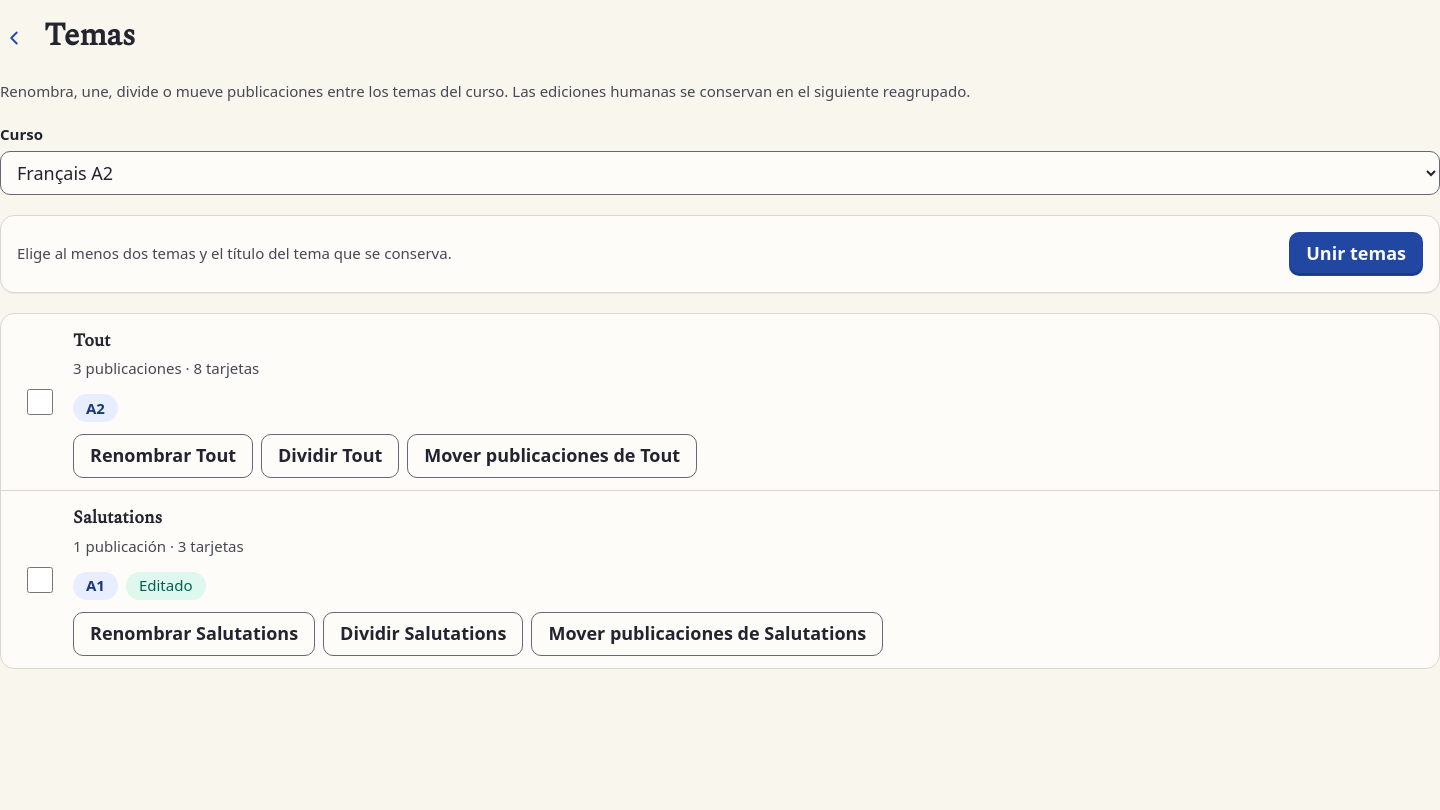
Test case: los errores del servidor se muestran tal cual
Click the button "Renombrar Tout": (163, 456) [73,434,253,478]
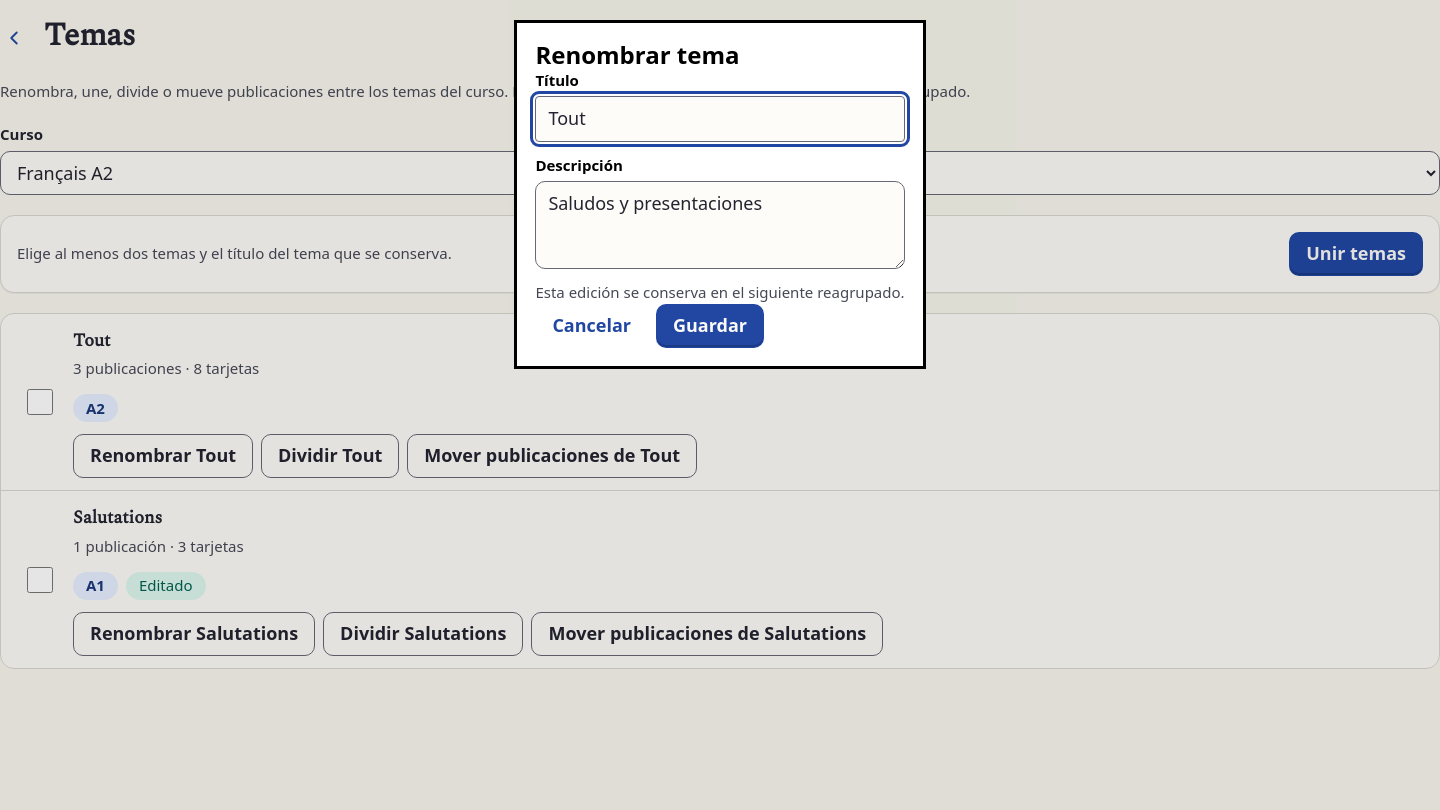
Click the button "Guardar": (710, 326) [656,304,764,348]
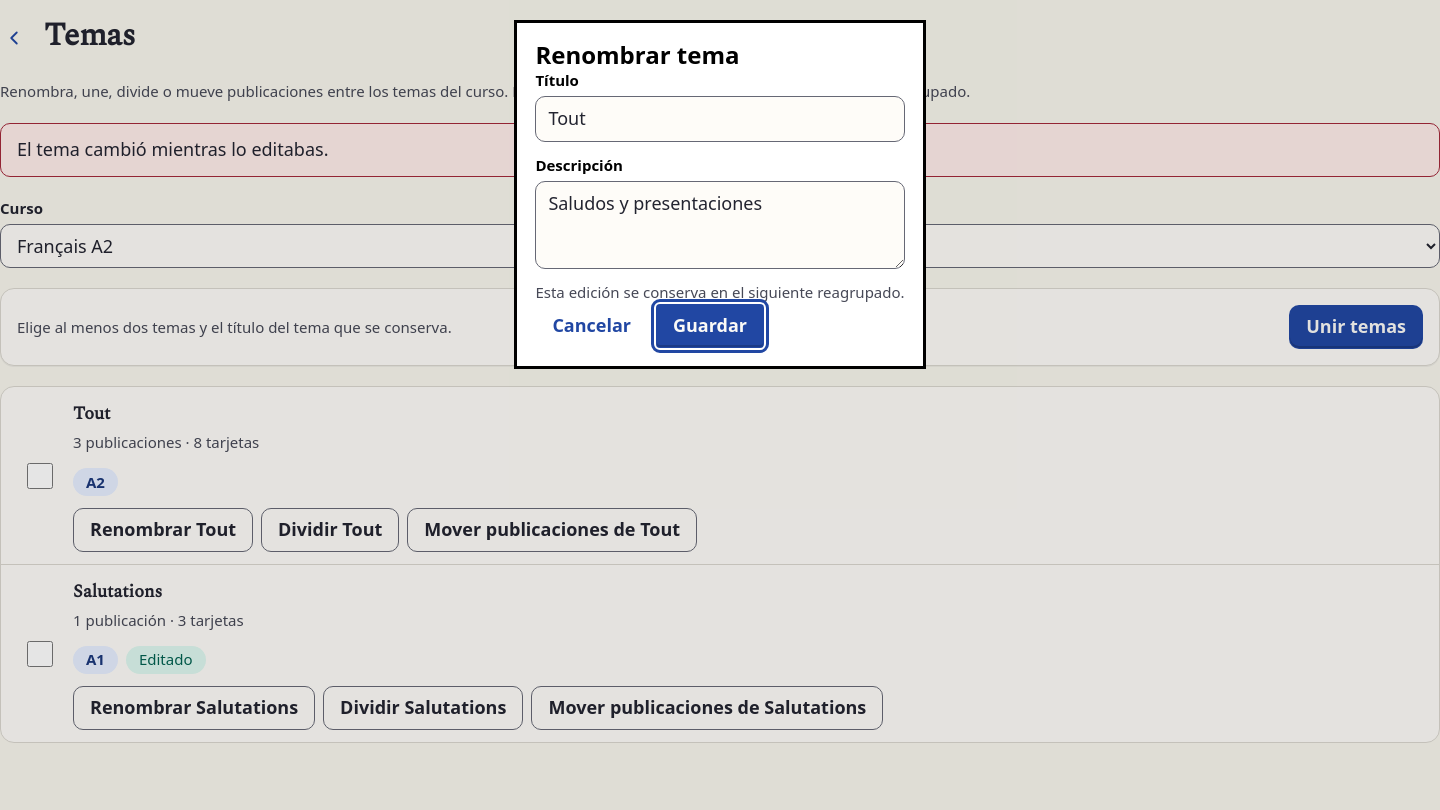
Expected: the message reads "El tema cambió mientras lo editabas.", [17,137,328,161]
